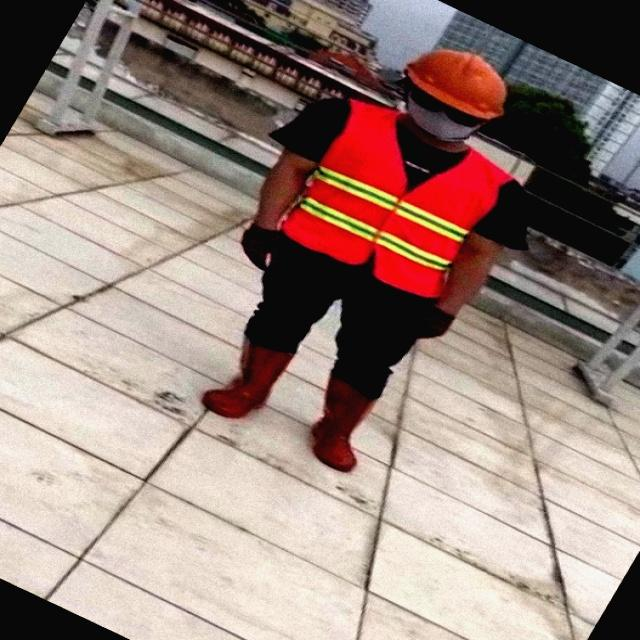helmet: (404, 48, 509, 122)
safety_vest: (288, 100, 524, 312)
